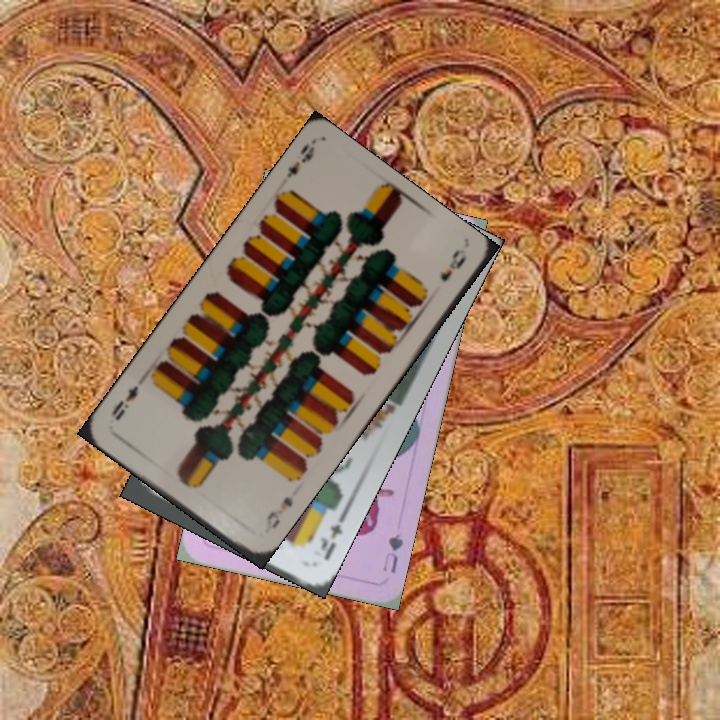E9: (259, 492, 296, 537), (282, 139, 318, 181)
EK: (316, 511, 348, 563)
GU: (378, 529, 406, 576)
